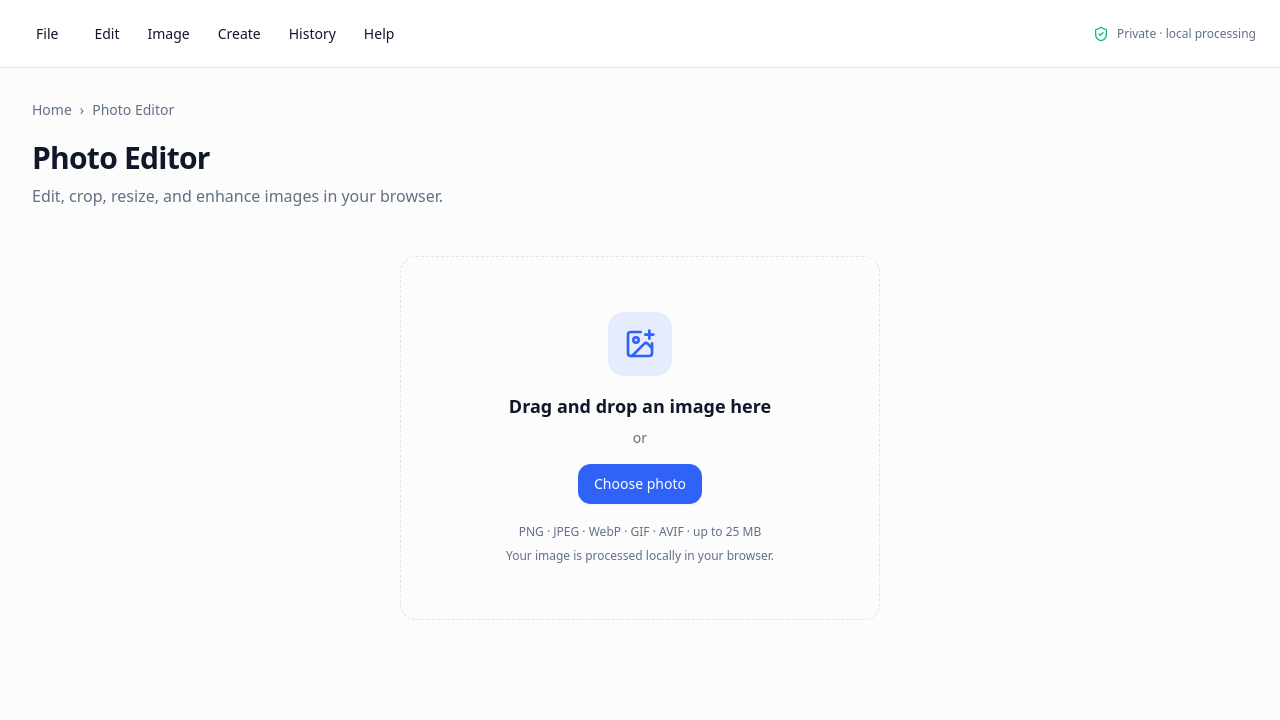
Test: PhotoEditor workspace UX acceptance › closes an open menu when the user clicks outside the menu bar or presses Escape
The image size is (1280, 720).
Click the button "File" at x=47, y=34, box left=24, top=16, right=70, bottom=52
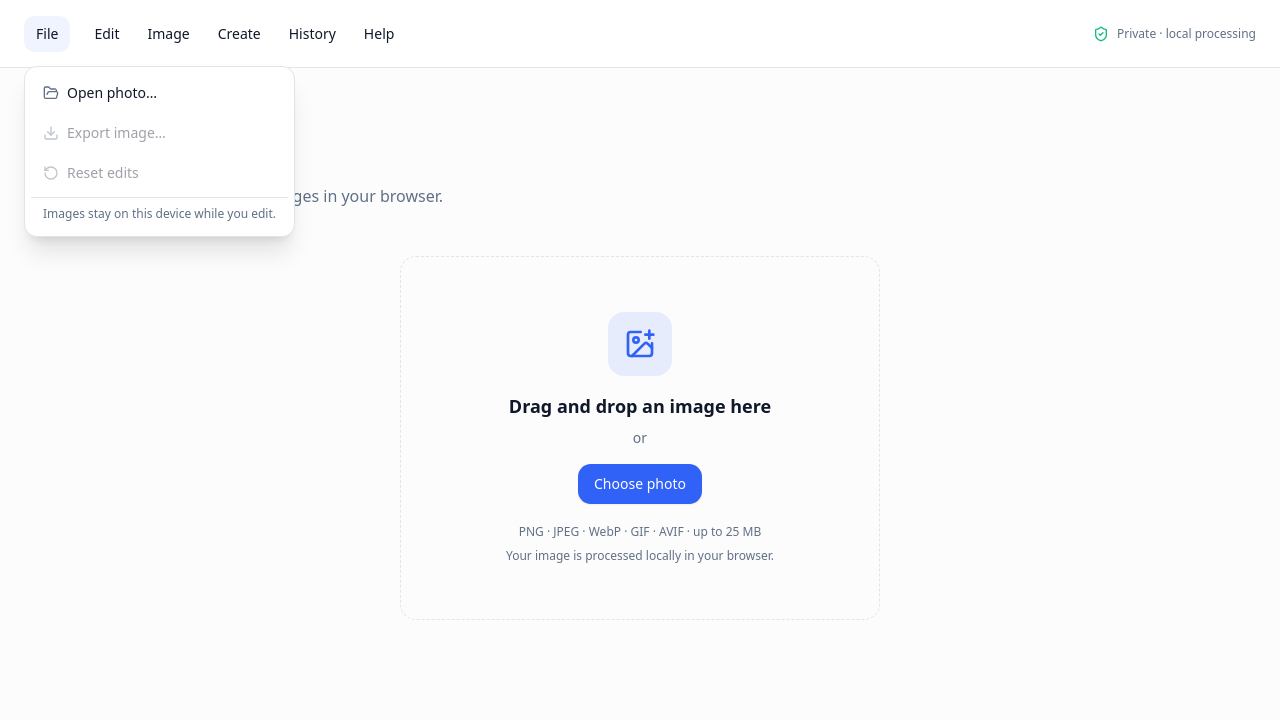
Now the button "Open photo…" is shown, box left=31, top=73, right=288, bottom=113
Press the mouse on the element that starts with "File" at x=640, y=326, box left=0, top=0, right=1279, bottom=652
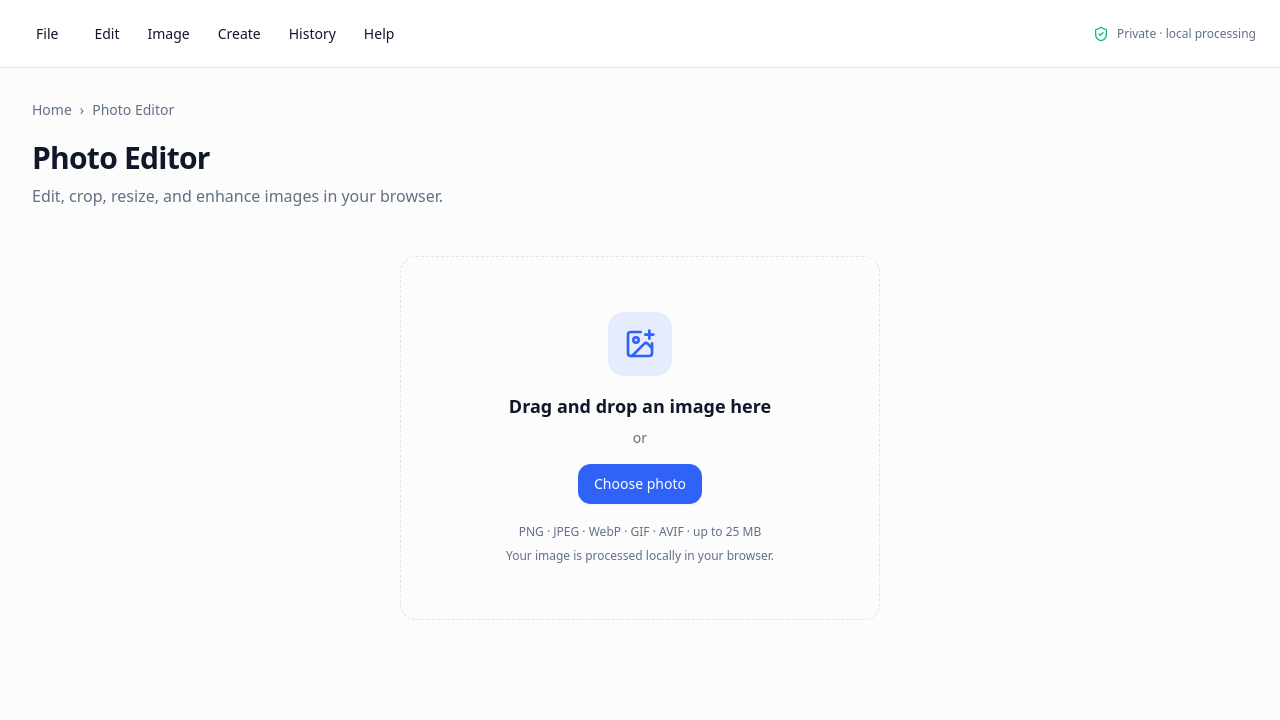
Now the button "Open photo…" is gone
Click the button "File" at x=47, y=34, box left=24, top=16, right=70, bottom=52
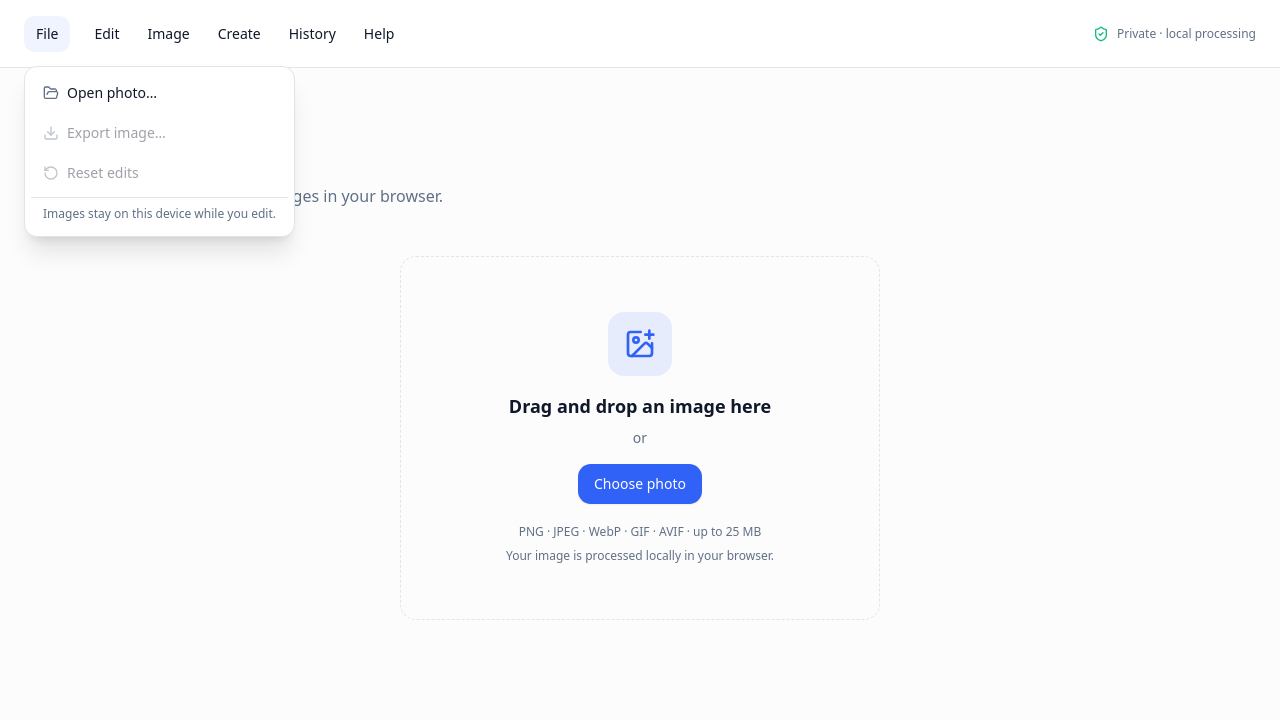
Press Escape
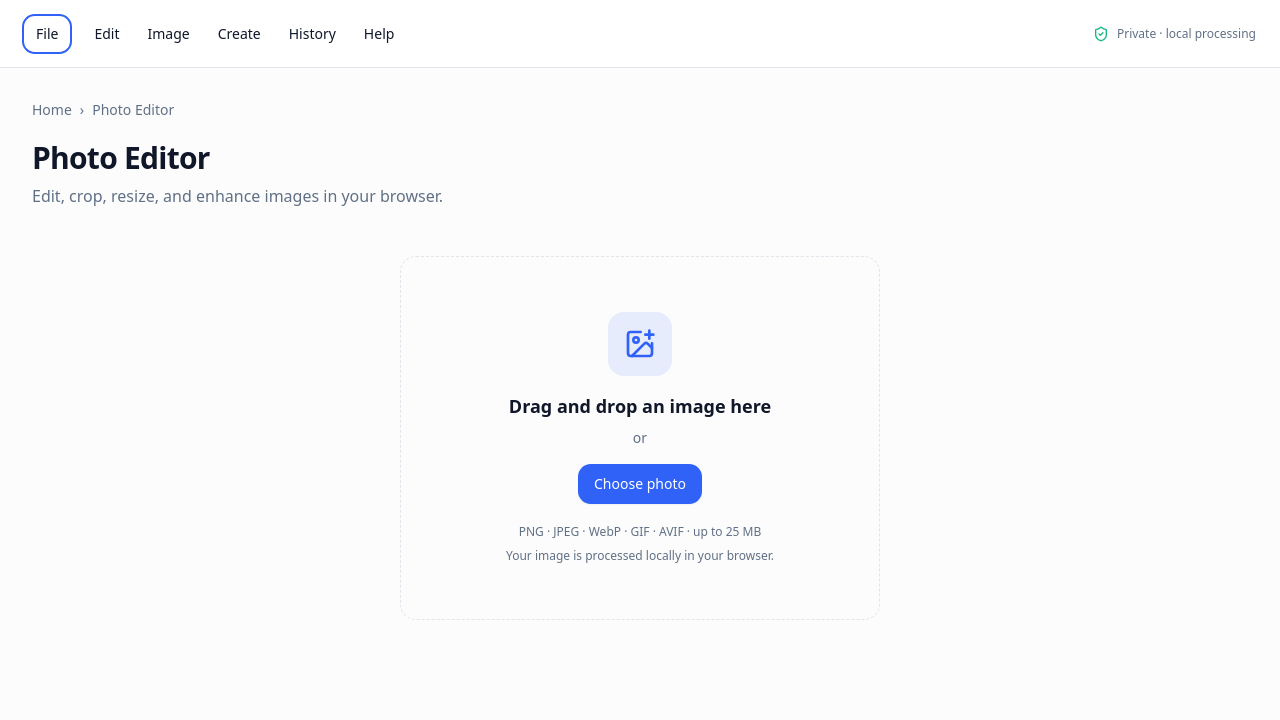
Now the button "Open photo…" is gone
